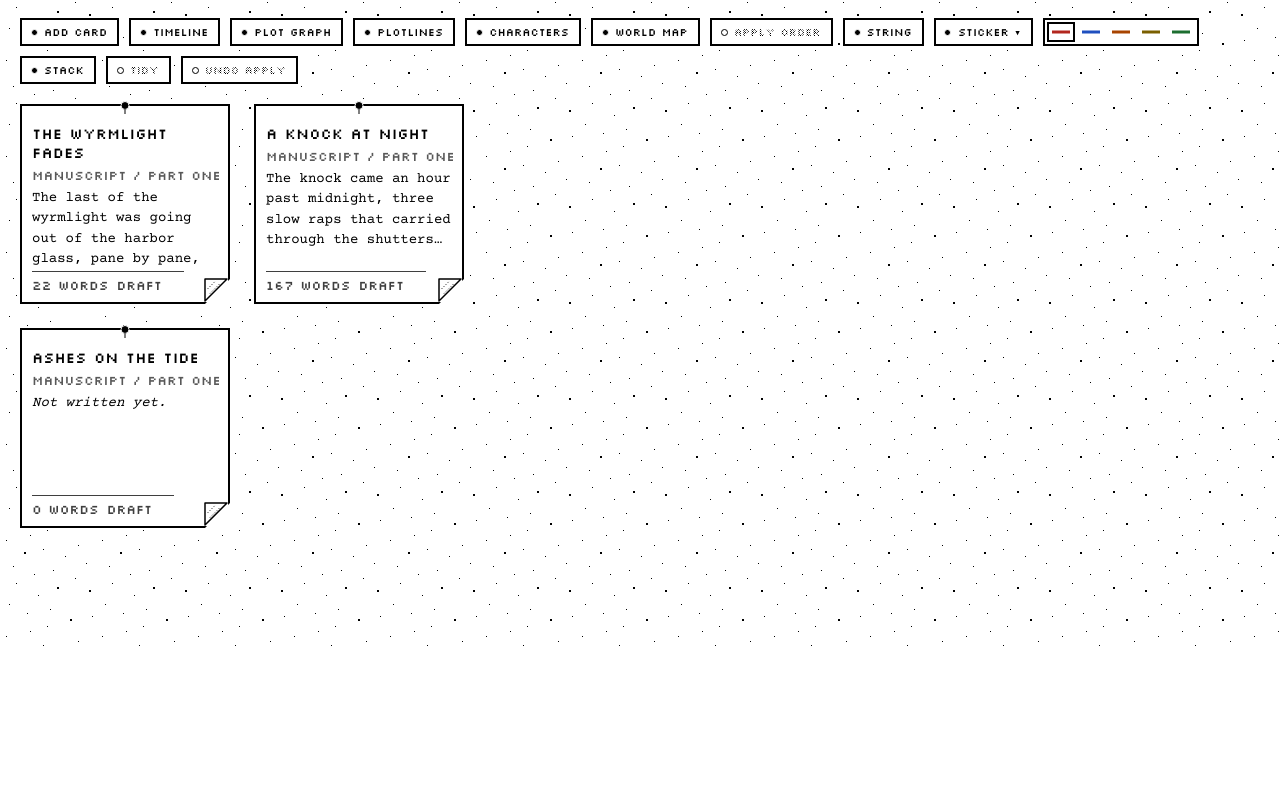
the back of the card › keeps what was written however it is closed — Esc included
Click the button named "Turn The Wyrmlight Fades over" at (218, 292), box x1=204 y1=278 x2=231 y2=305
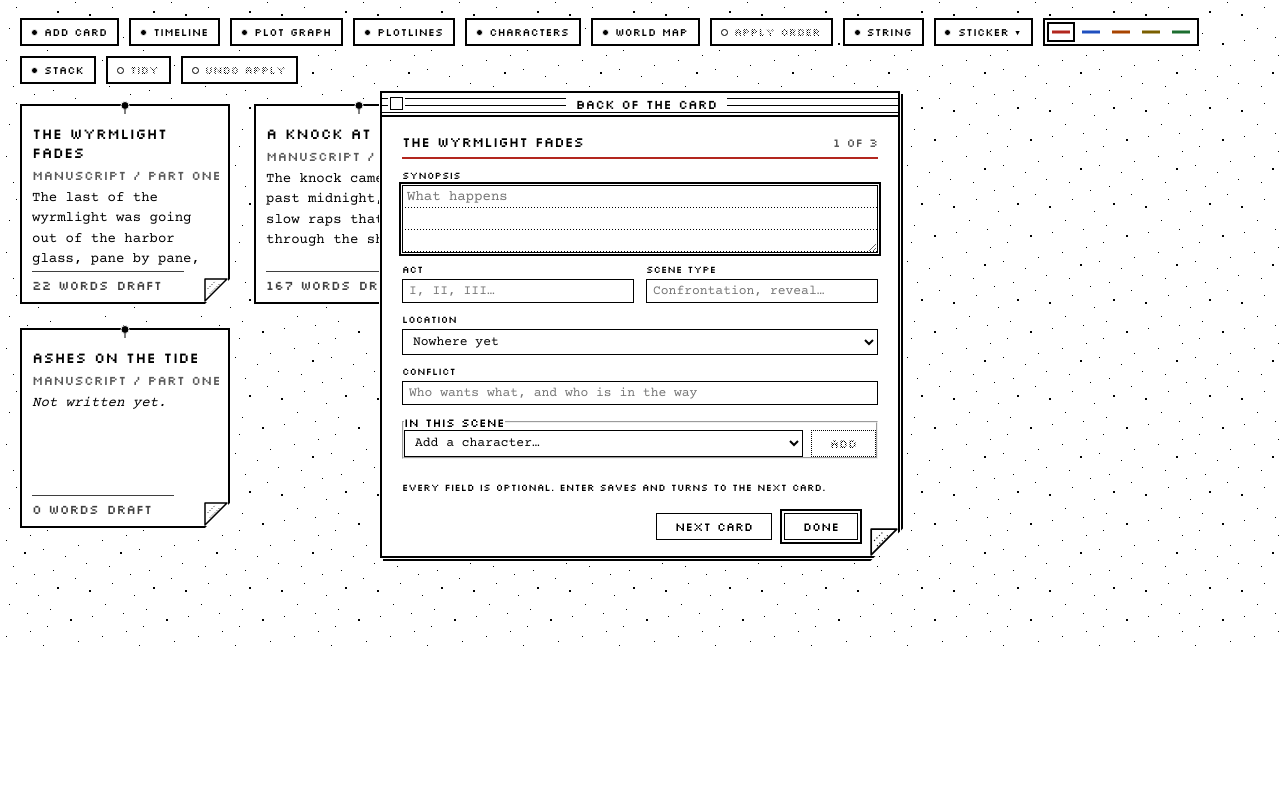
Type "Written, then Esc." into the field labelled "Conflict" at (640, 392), box x1=402 y1=380 x2=878 y2=404
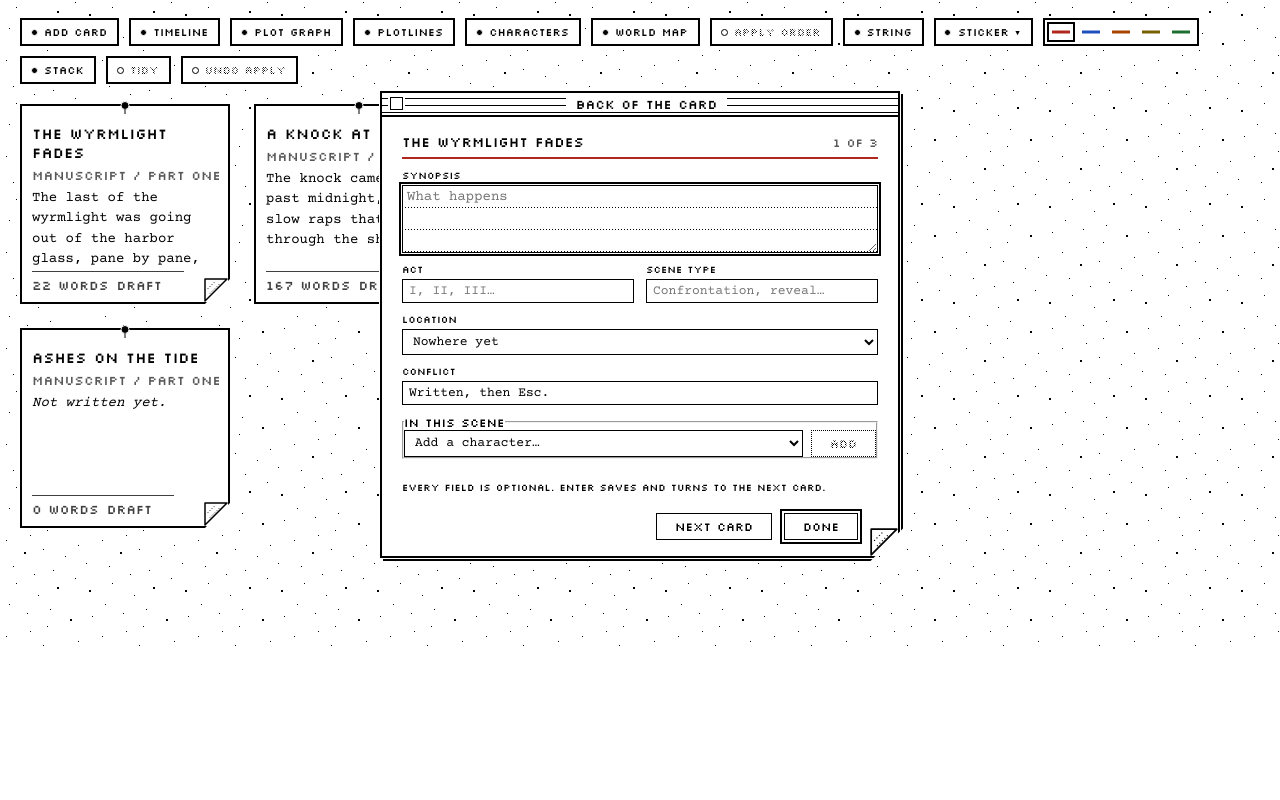
Press Escape in the text box labelled "Synopsis", box x1=402 y1=184 x2=878 y2=252
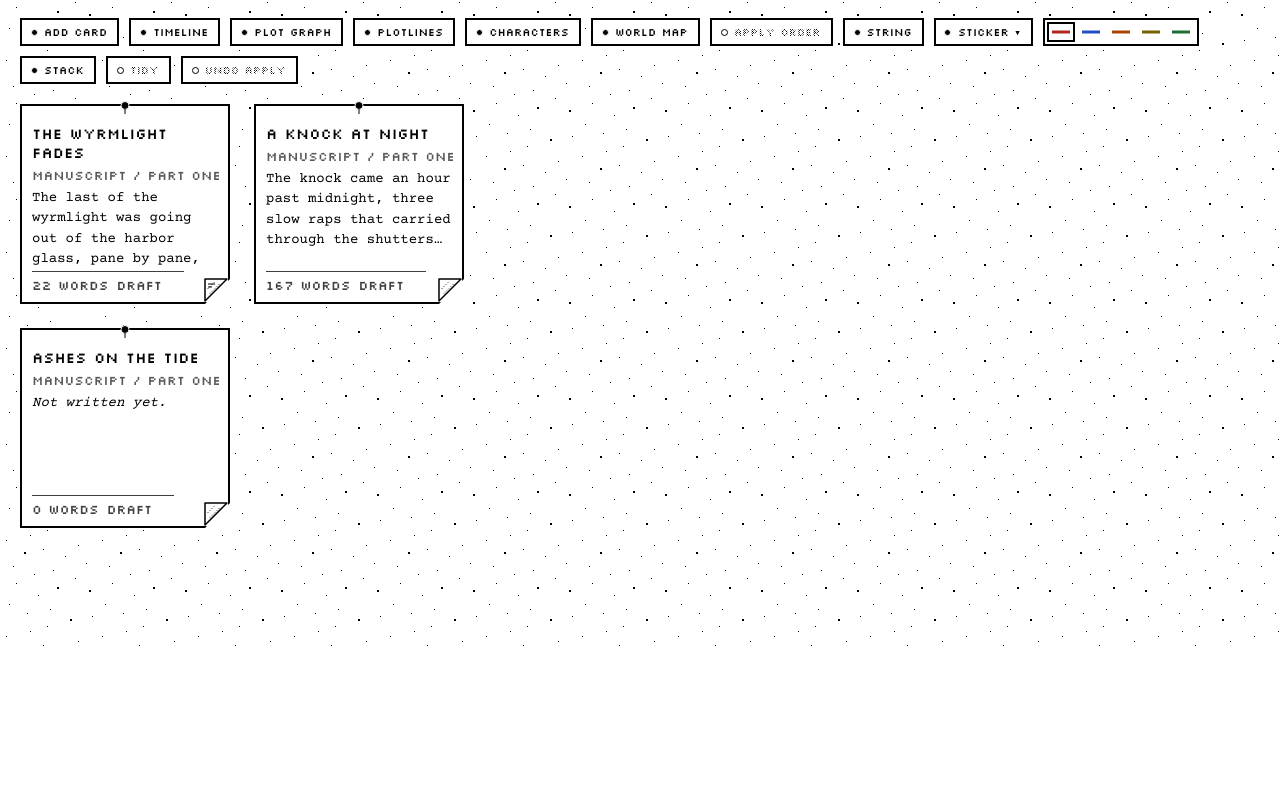
Result: the dialog is gone
